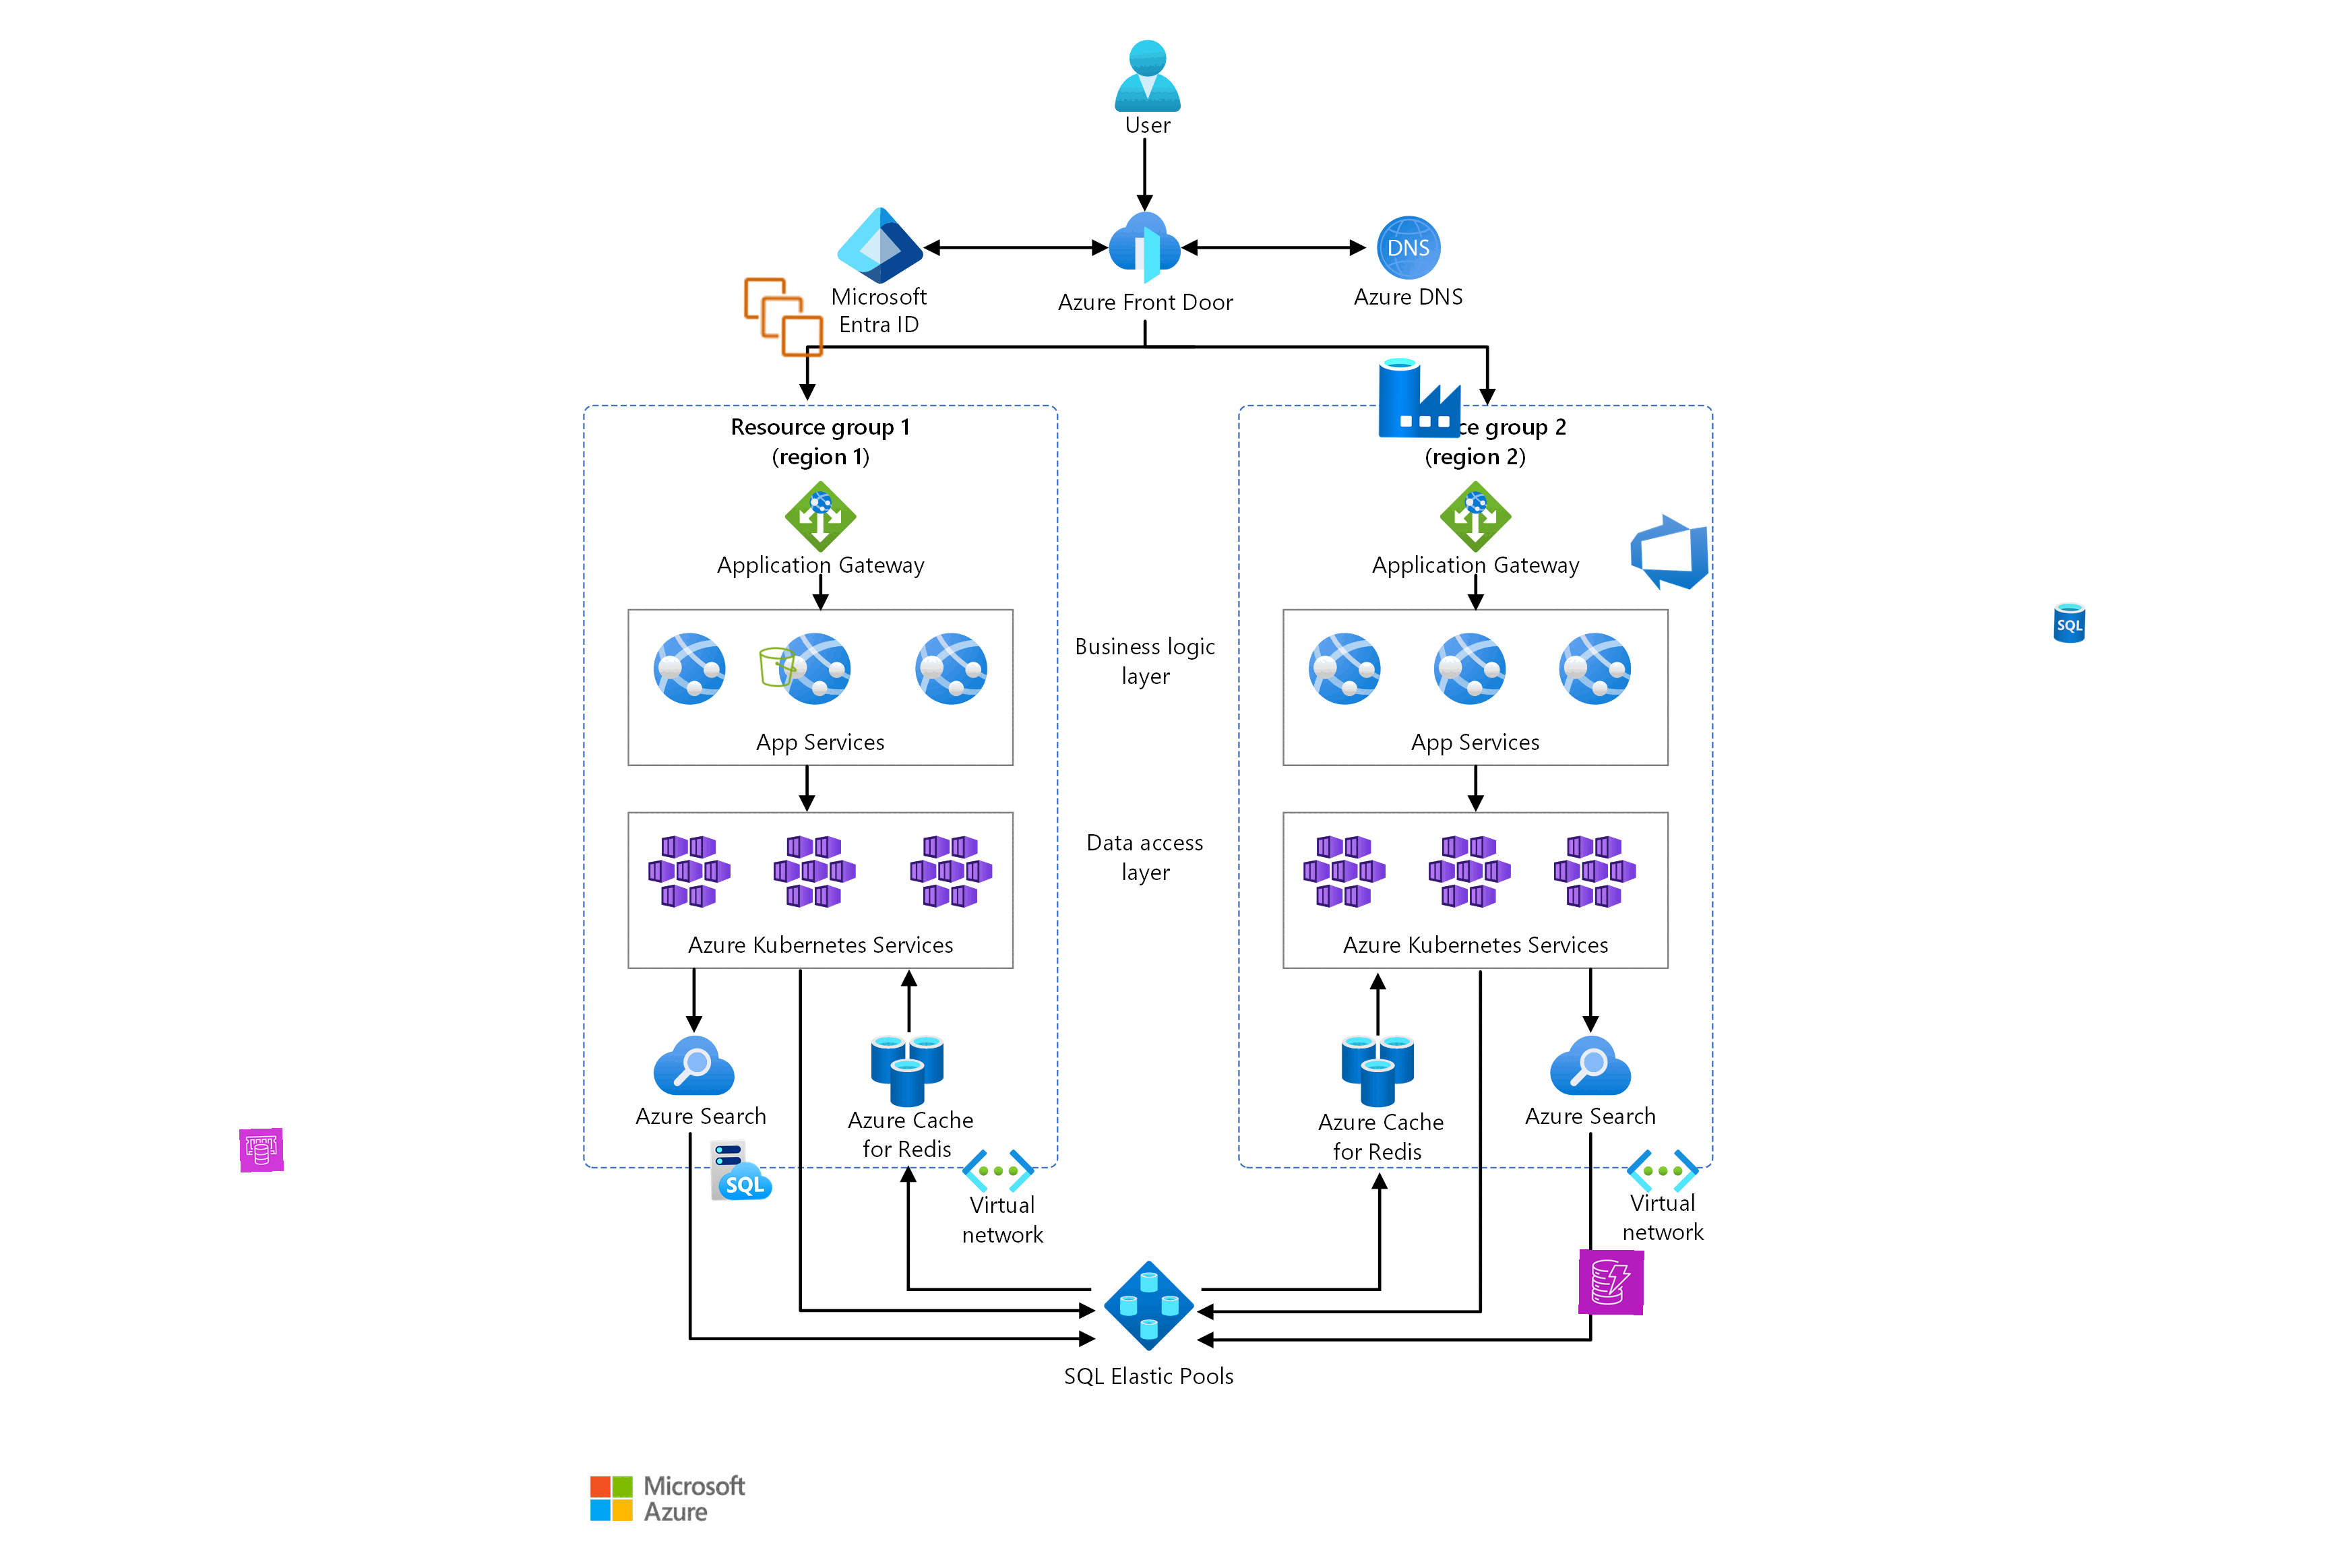aws_amazon_dynamodb: (1578, 1249, 1645, 1316)
aws_amazon_elasticache: (240, 1129, 283, 1172)
aws_ec2_instances: (740, 273, 828, 361)
aws_simple_storage_service_s3_standard: (754, 644, 800, 689)
azure_data_factories: (1375, 354, 1463, 441)
azure_devops: (1624, 508, 1715, 597)
azure_sql_database: (2047, 600, 2091, 644)
azure_sql_managed_instance: (707, 1136, 775, 1204)
